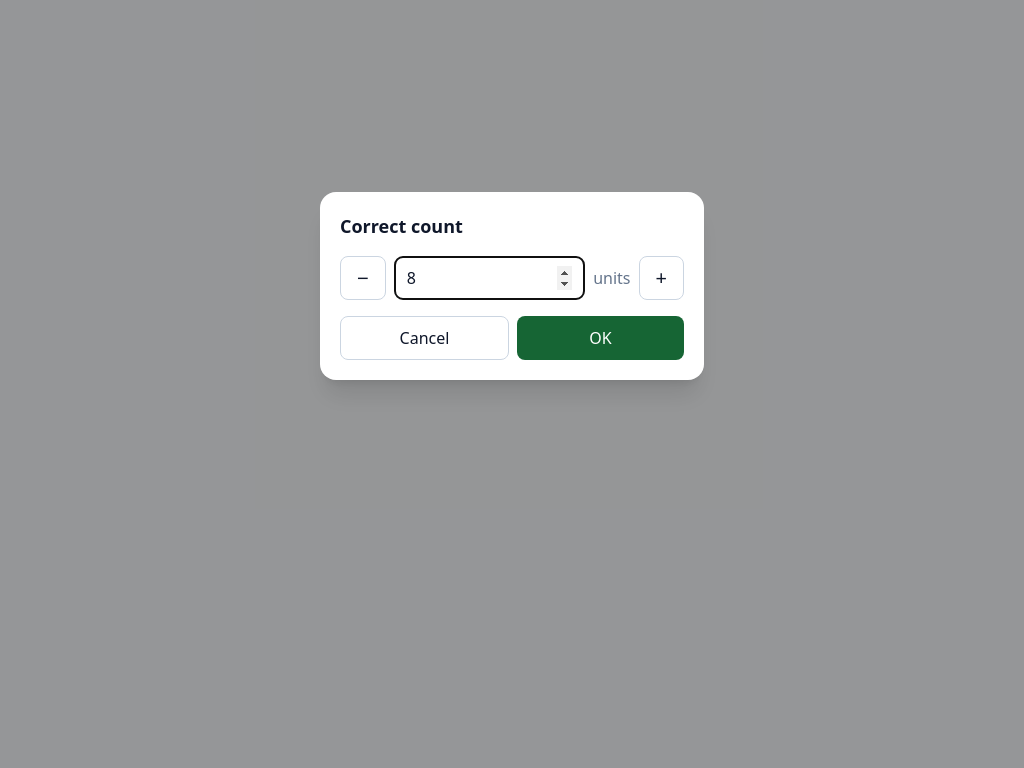
Scenario: QtyDialog stepper buttons › Decrease/Increase move the value by step (8 -> 16 -> 8)
Click the button named "Increase". click: {"x": 661, "y": 278}
box: [638, 256, 684, 300]
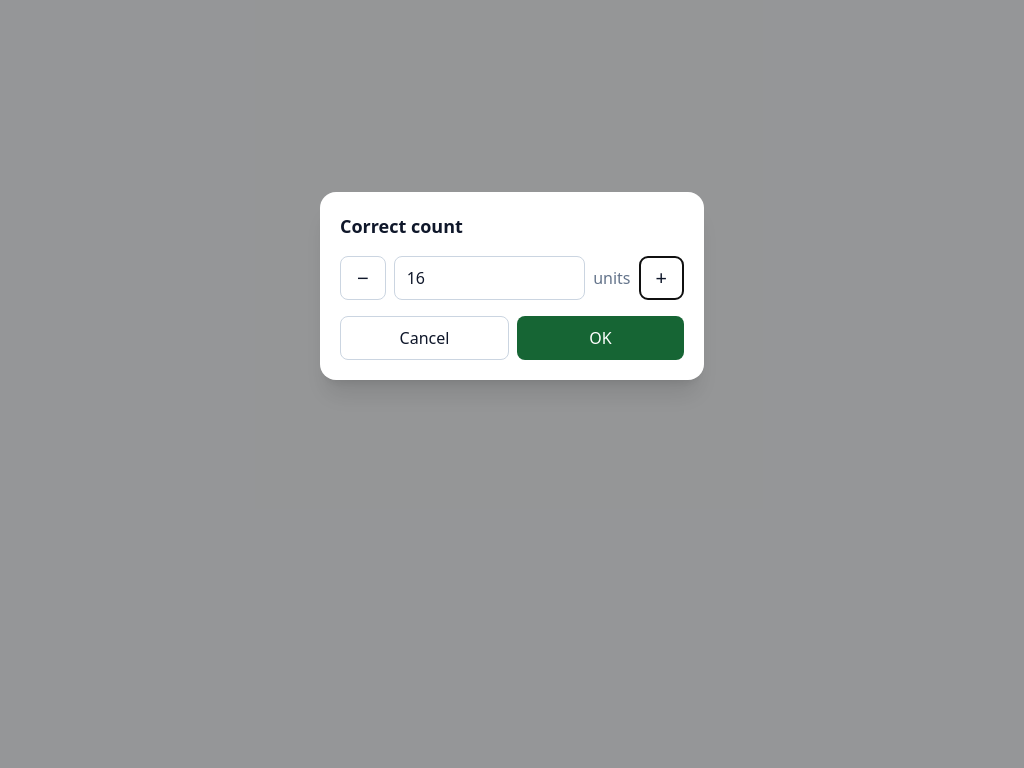
Result: the number field named "Quantity" holds "16" at [394, 256, 585, 300]
Click the button named "Decrease". click: {"x": 363, "y": 278}
box: [340, 256, 386, 300]
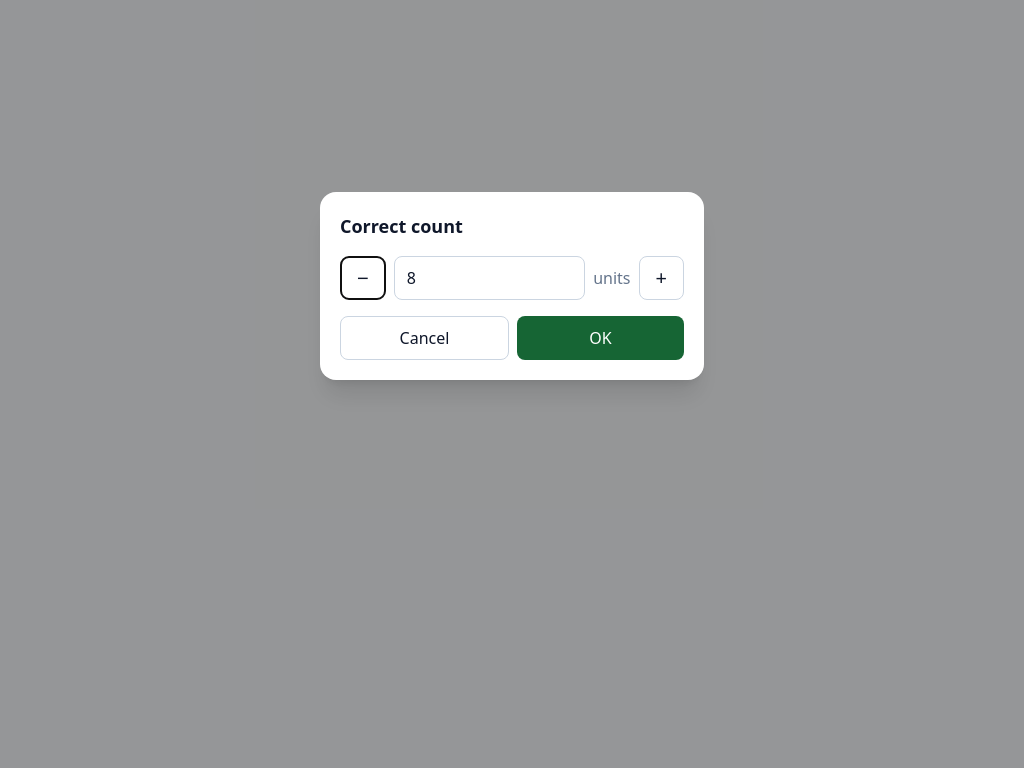
Result: the number field named "Quantity" holds "8" at [394, 256, 585, 300]
